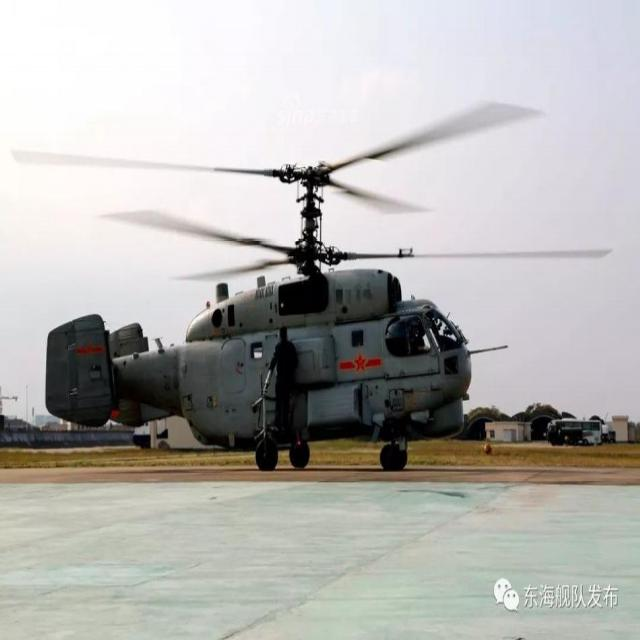MIL_HELO: (8, 100, 614, 477)
